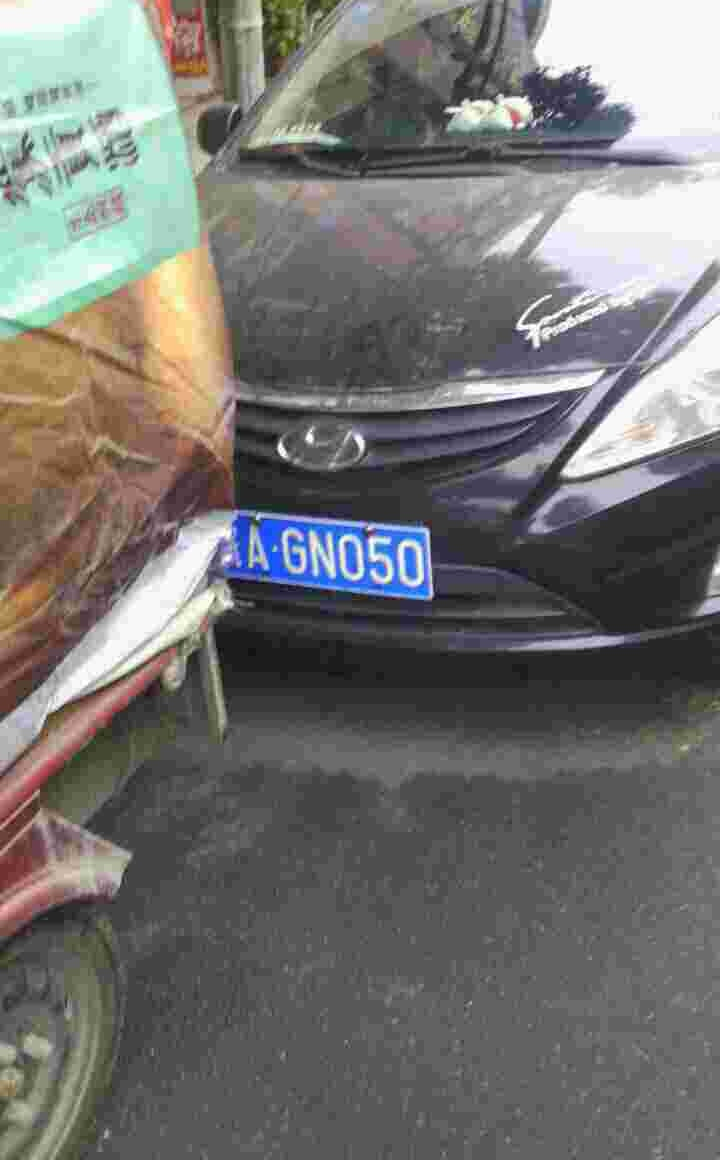license_plate: (215, 509, 440, 606)
